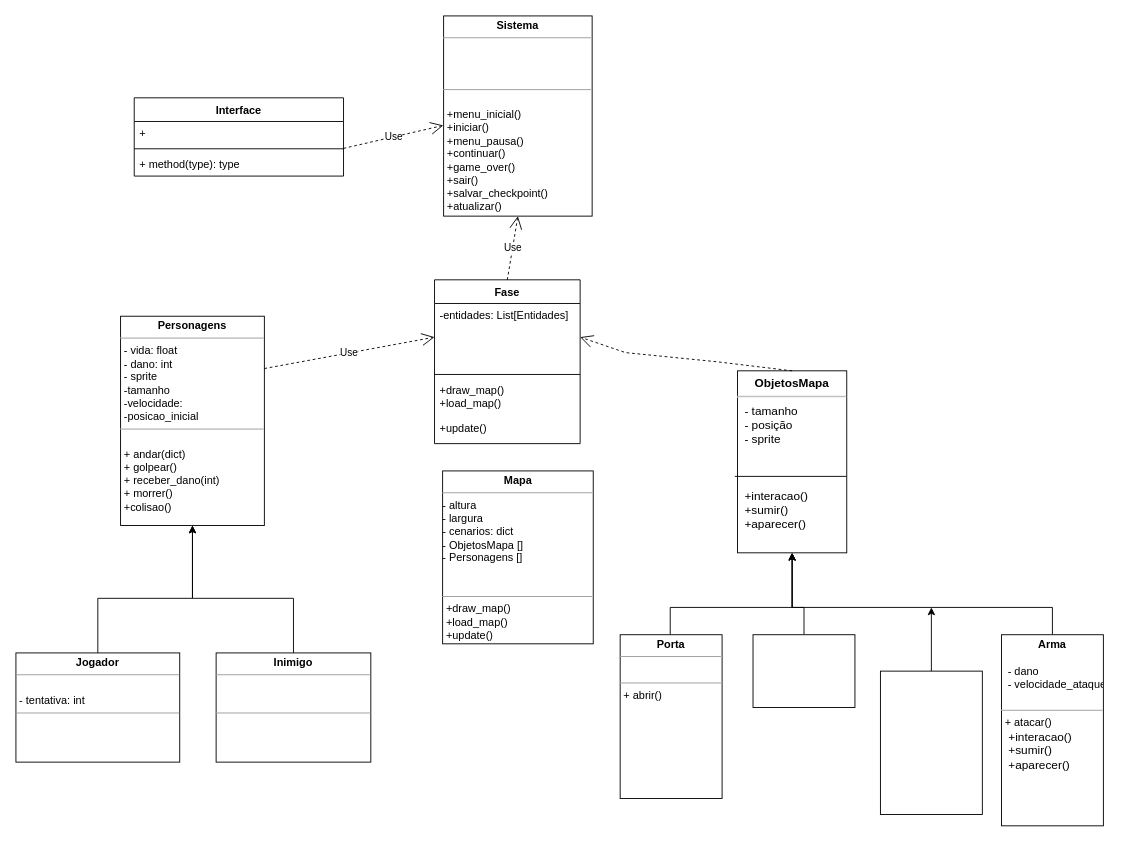
Some shapes in this 1121 by 842 pixel diagram are drawn without their labels. Each missing label, with the centre of its shape:
Blocos + abrir(): the point at 803,671
Projétil - dano + atualiza() +interacao() +sumir() +aparecer(): the point at 931,742
